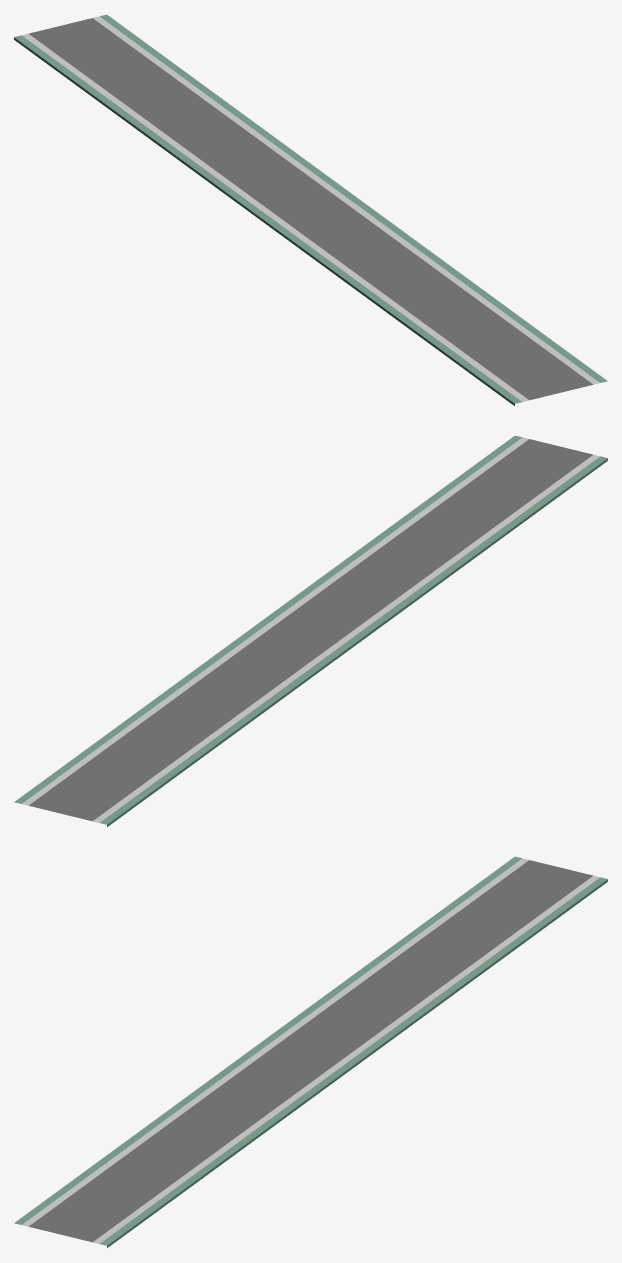
Rendered from road_town_desert_side.glb.
3 renders of one model, top to bottom at view 1: azimuth 30°, elevation 25°; view 2: azimuth 150°, elevation 25°; view 3: azimuth 330°, elevation 25°, orthographic.
Parts seen in each view (by area): view 1: road; view 2: road; view 3: road.
Part boxes in pixels (<box>): road: <box>14,14,607,405</box>; road: <box>14,435,607,826</box>; road: <box>14,856,607,1247</box>.
Size of the model in its own units: 12 by 0.32 by 112.
